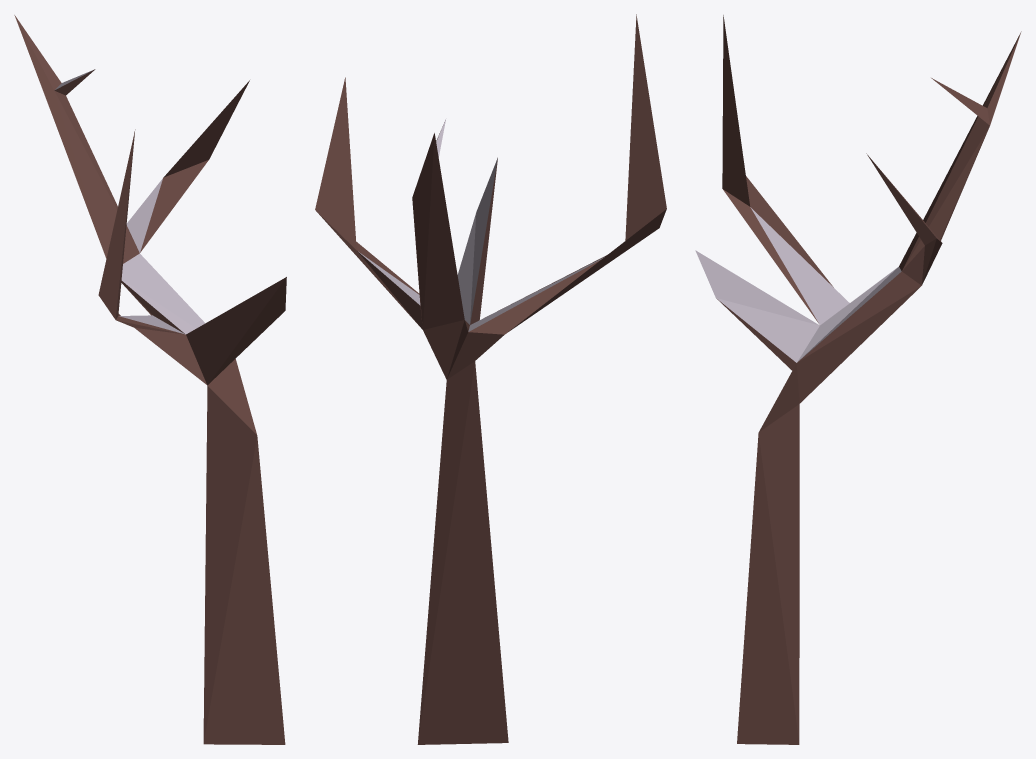
The model's file is CommonTree_Dead_Snow_4.lod3.glb.
The picture shows the model from 3 angles, left to right: view 1: azimuth 30°, elevation 25°; view 2: azimuth 150°, elevation 25°; view 3: azimuth 270°, elevation 25°; orthographic projection. The views are drawn at different scales.
Visible parts, largest first — view 1: CommonTree_Dead_Snow_4; view 2: CommonTree_Dead_Snow_4; view 3: CommonTree_Dead_Snow_4.
Boxes of the visible parts, x1=… form: CommonTree_Dead_Snow_4: x1=14, y1=15, x2=286, y2=744; CommonTree_Dead_Snow_4: x1=315, y1=14, x2=666, y2=744; CommonTree_Dead_Snow_4: x1=695, y1=15, x2=1021, y2=744.
Size of the model in its own units: 0.8094 by 2.33 by 1.05.
